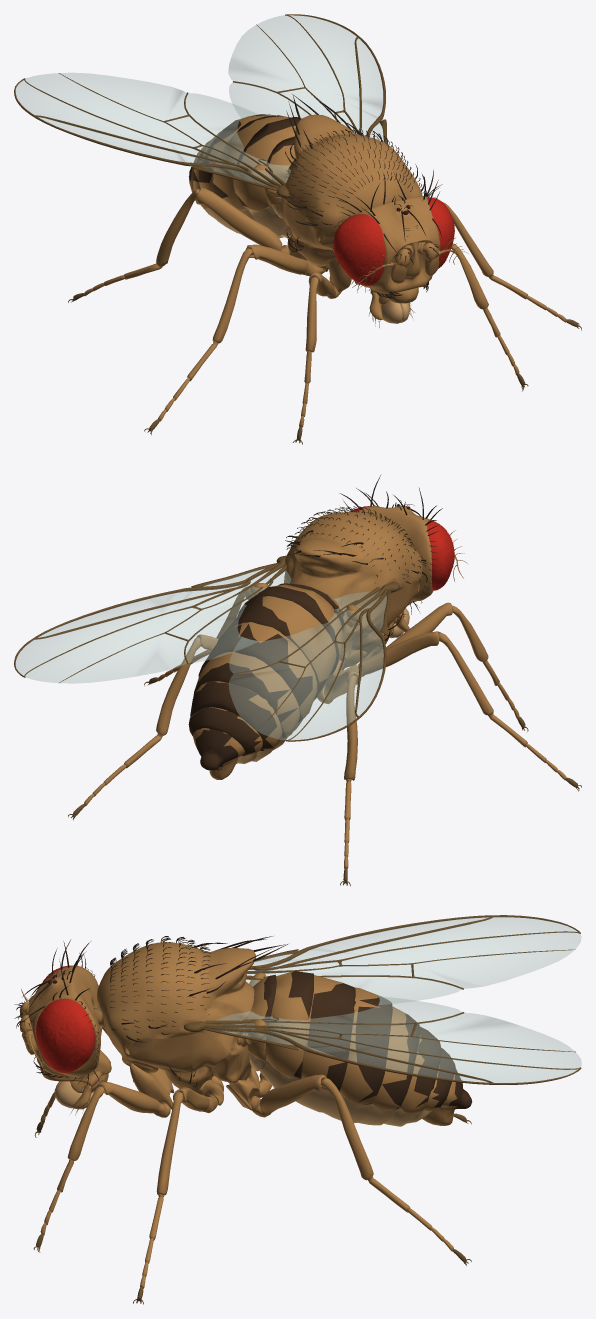
File: fly-low.glb
3 views of the same model, one above another, from view 1: azimuth 30°, elevation 25°; view 2: azimuth 150°, elevation 25°; view 3: azimuth 270°, elevation 25° (orthographic). The views are drawn at different scales.
Visible parts, largest first — view 1: wing_right__membrane, wing_left__membrane, thorax__body, head__body, head__red, wing_right__brown, abdomen_2__body, thorax__black, femur_T3_right__body, abdomen_3__body, wing_left__brown, femur_T2_right__body (+12 smaller); view 2: wing_right__membrane, wing_left__membrane, thorax__body, abdomen_4__body, abdomen_3__body, abdomen_5__body, wing_left__brown, abdomen_6__body, wing_right__brown, head__body, abdomen_2__body, abdomen_8__body (+11 smaller); view 3: thorax__body, wing_left__membrane, wing_right__membrane, wing_left__brown, abdomen_3__body, abdomen_4__body, wing_right__brown, head__red, abdomen_2__body, head__body, abdomen_5__body, thorax__black (+17 smaller).
Boxes of the visible parts, box(x1,y1,x2,y2) form: wing_right__membrane: box(16, 73, 290, 185); wing_left__membrane: box(228, 15, 383, 141); thorax__body: box(279, 114, 422, 266); head__body: box(344, 196, 440, 293); head__red: box(333, 197, 454, 285); wing_right__brown: box(14, 73, 289, 197); abdomen_2__body: box(233, 117, 301, 211); thorax__black: box(283, 94, 426, 251); femur_T3_right__body: box(196, 187, 289, 254); abdomen_3__body: box(213, 115, 290, 210); wing_left__brown: box(233, 14, 388, 144); femur_T2_right__body: box(245, 244, 324, 275); wing_right__membrane: box(229, 590, 386, 740); wing_left__membrane: box(16, 567, 291, 683); thorax__body: box(284, 512, 422, 660); abdomen_4__body: box(198, 622, 317, 722); abdomen_3__body: box(217, 596, 336, 700); abdomen_5__body: box(193, 652, 299, 738); wing_left__brown: box(14, 555, 286, 682); abdomen_6__body: box(190, 681, 282, 760); wing_right__brown: box(233, 581, 399, 741); head__body: box(357, 505, 433, 601); abdomen_2__body: box(237, 584, 343, 675); abdomen_8__body: box(193, 728, 244, 779); thorax__body: box(93, 942, 255, 1092); wing_left__membrane: box(216, 996, 581, 1082); wing_right__membrane: box(246, 917, 581, 1004); wing_left__brown: box(184, 1012, 581, 1084); abdomen_3__body: box(301, 975, 355, 1091); abdomen_4__body: box(339, 987, 392, 1105); wing_right__brown: box(246, 915, 580, 989); head__red: box(36, 965, 94, 1073); abdomen_2__body: box(265, 971, 313, 1079); head__body: box(25, 966, 102, 1077); abdomen_5__body: box(371, 1006, 419, 1110); thorax__black: box(110, 936, 287, 1087).
Bounding box in the file's own units: 1.18 × 0.6187 × 1.26.
